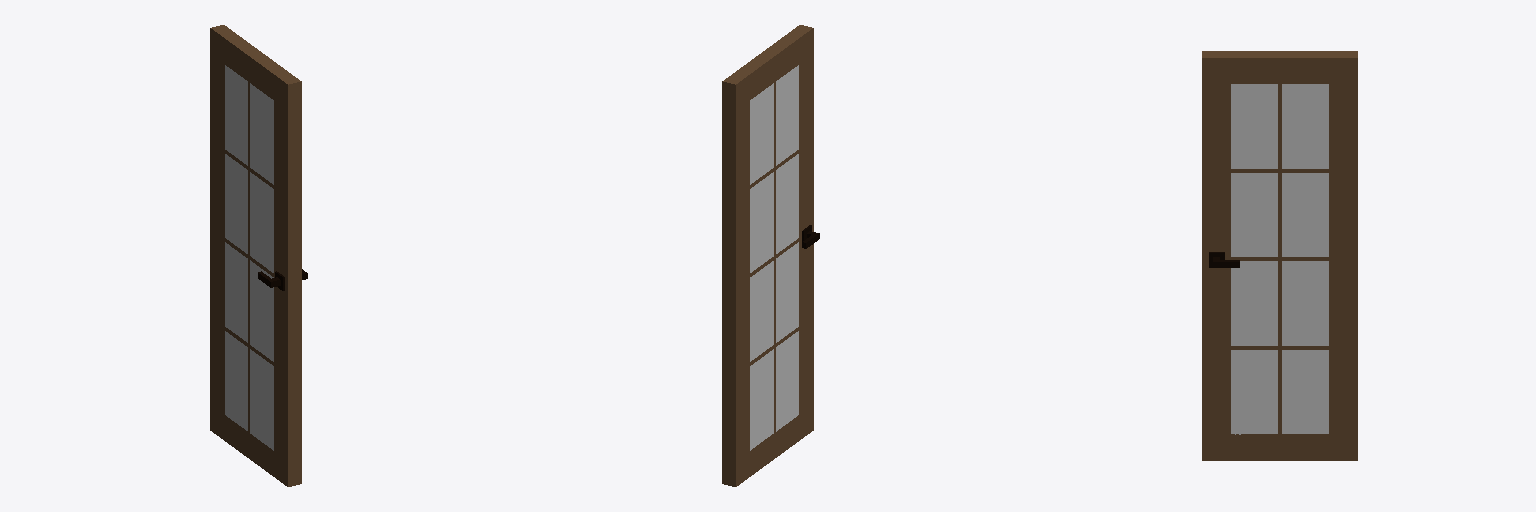
File: door702_brown.obj
The picture shows the model from 3 angles: view 1: azimuth 30°, elevation 25°; view 2: azimuth 150°, elevation 25°; view 3: azimuth 270°, elevation 25°; orthographic projection.
Parts seen in each view (by area): view 1: Cube; view 2: Cube; view 3: Cube.
Part boxes in pixels (bbox=[...]): Cube: bbox=[210, 25, 307, 486]; Cube: bbox=[722, 25, 819, 486]; Cube: bbox=[1202, 51, 1357, 460].
Bounding box in the file's own units: 0.1899 × 2 × 0.6998.